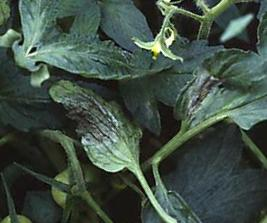Tomato leaf late blight: (35, 53, 170, 198), (152, 30, 267, 185), (27, 2, 144, 119)
